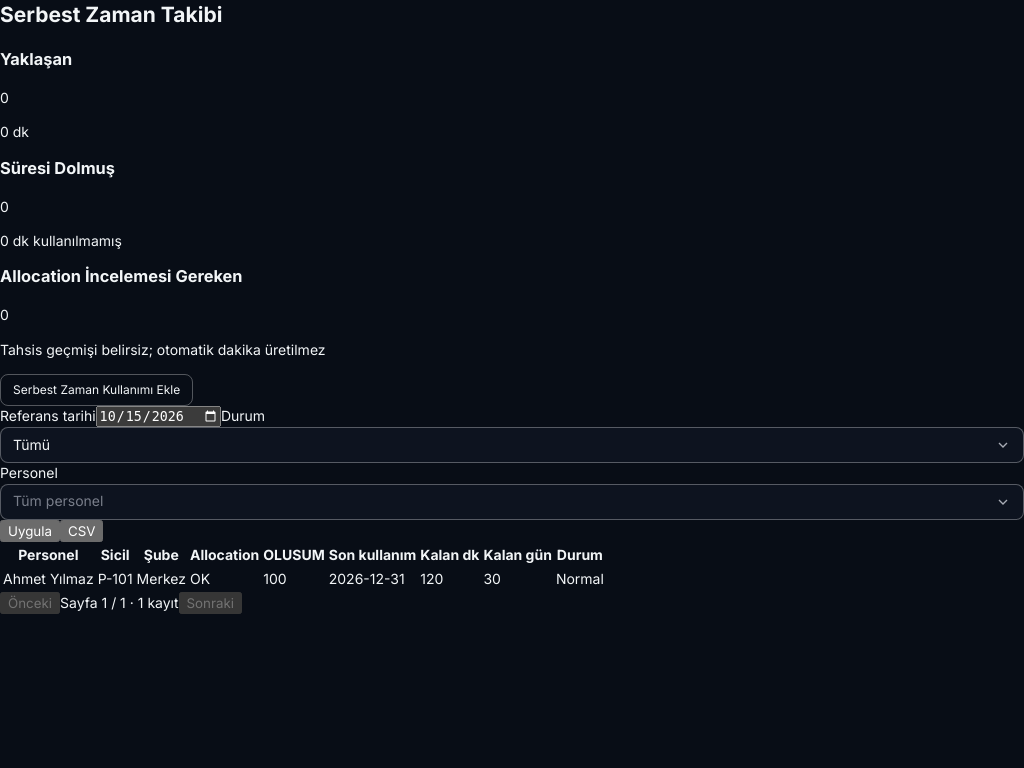
Test: SerbestZamanTakipPage UI › renders page and opens Kullanim modal
What coordinates should you click on to do the following:
click the button "Serbest Zaman Kullanımı Ekle"
I would click on:
 (97, 390)
Its box is [0,374,193,406].
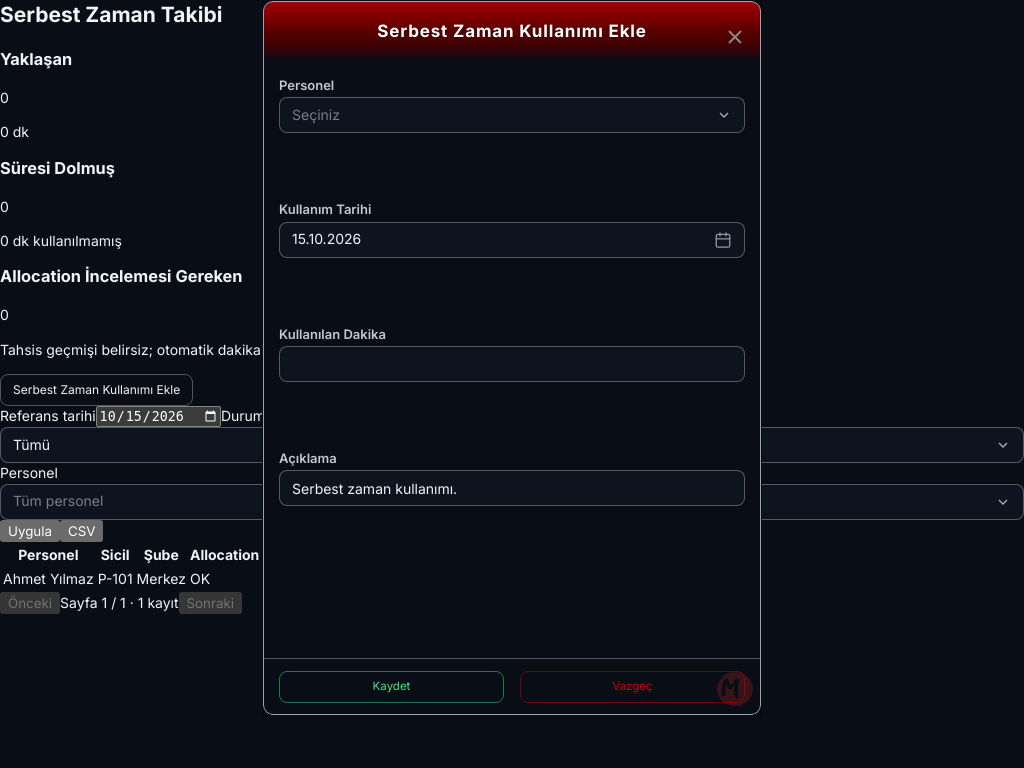
Expected: the heading "Serbest Zaman Kullanımı Ekle" is shown, [377,20,647,40]
Expected: the text "Personel" is shown, [279,77,334,93]
